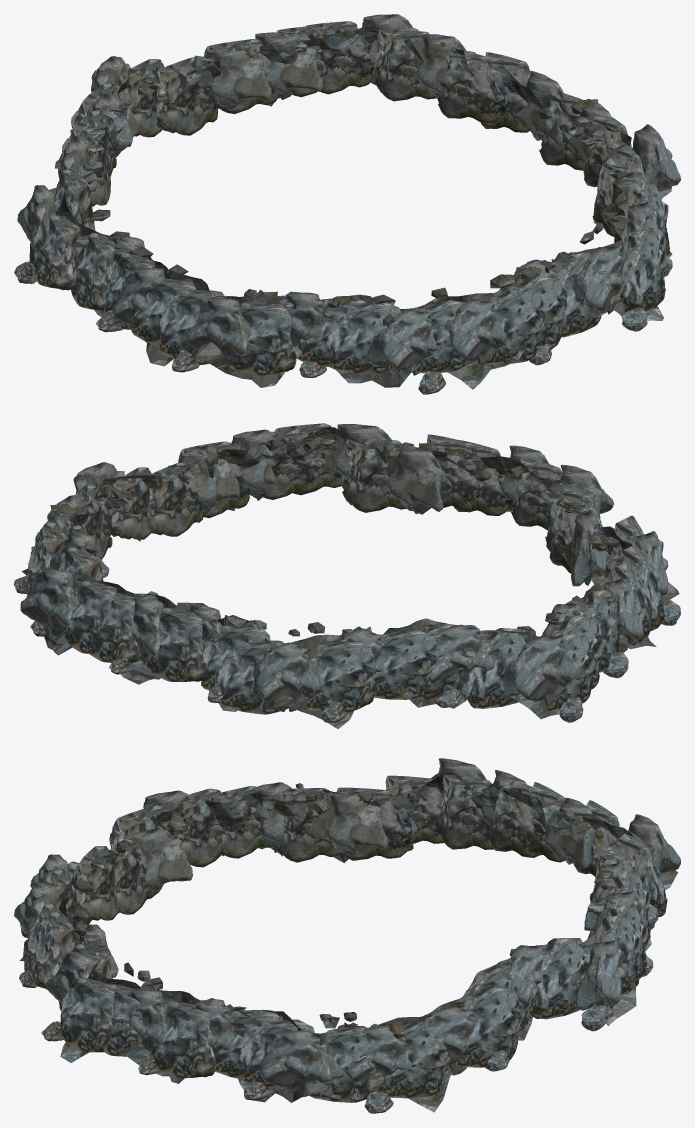
Rendered from ValoriaScannedCliffV2.glb.
3 renders of one model, top to bottom at view 1: azimuth 30°, elevation 25°; view 2: azimuth 150°, elevation 25°; view 3: azimuth 270°, elevation 25°, orthographic.
Parts seen in each view (by area): view 1: Buried continuous cliff contact receiver - existing geometry, CC0 directed cliff course 05, CC0 directed cliff course 32, CC0 directed cliff course 14, CC0 directed cliff course 35, CC0 directed cliff course 39, CC0 directed cliff course 44, CC0 cluster directed cliff course 36, CC0 directed cliff course 07, CC0 cluster directed cliff course 31, CC0 cluster directed cliff course 13, CC0 cluster directed cliff course 38 (+37 smaller); view 2: Buried continuous cliff contact receiver - existing geometry, CC0 directed cliff course 17, CC0 cluster directed cliff course 23, CC0 directed cliff course 19, CC0 directed cliff course 12, CC0 cluster directed cliff course 16, CC0 cluster directed cliff course 41, CC0 directed cliff course 49, CC0 directed cliff course 42, CC0 directed cliff course 22, CC0 directed cliff course 15, CC0 cluster directed cliff course 08 (+39 smaller); view 3: Buried continuous cliff contact receiver - existing geometry, CC0 directed cliff course 47, CC0 directed cliff course 04, CC0 cluster directed cliff course 51, CC0 directed cliff course 07, CC0 cluster directed cliff course 26, CC0 directed cliff course 44, CC0 directed cliff course 02, CC0 directed cliff course 22, CC0 cluster directed cliff course 08, CC0 cluster directed cliff course 33, CC0 directed cliff course 30 (+38 smaller).
Part boxes in pixels (bbox=[...]): Buried continuous cliff contact receiver - existing geometry: bbox=[29, 26, 672, 389]; CC0 directed cliff course 05: bbox=[437, 54, 511, 122]; CC0 directed cliff course 32: bbox=[229, 302, 296, 375]; CC0 directed cliff course 14: bbox=[154, 57, 217, 135]; CC0 directed cliff course 35: bbox=[325, 301, 400, 374]; CC0 directed cliff course 39: bbox=[484, 289, 545, 364]; CC0 directed cliff course 44: bbox=[619, 229, 666, 312]; CC0 cluster directed cliff course 36: bbox=[367, 309, 439, 375]; CC0 directed cliff course 07: bbox=[374, 29, 437, 101]; CC0 cluster directed cliff course 31: bbox=[185, 297, 260, 366]; CC0 cluster directed cliff course 13: bbox=[205, 47, 271, 109]; CC0 cluster directed cliff course 38: bbox=[445, 299, 506, 364]; Buried continuous cliff contact receiver - existing geometry: bbox=[22, 427, 679, 729]; CC0 directed cliff course 17: bbox=[306, 641, 375, 712]; CC0 cluster directed cliff course 23: bbox=[503, 635, 576, 705]; CC0 directed cliff course 19: bbox=[374, 629, 437, 699]; CC0 directed cliff course 12: bbox=[143, 607, 206, 681]; CC0 cluster directed cliff course 16: bbox=[253, 642, 320, 711]; CC0 cluster directed cliff course 41: bbox=[386, 443, 451, 514]; CC0 directed cliff course 49: bbox=[149, 463, 203, 536]; CC0 directed cliff course 42: bbox=[341, 439, 406, 512]; CC0 directed cliff course 22: bbox=[465, 628, 525, 708]; CC0 directed cliff course 15: bbox=[216, 640, 288, 714]; CC0 cluster directed cliff course 08: bbox=[20, 568, 75, 637]; Buried continuous cliff contact receiver - existing geometry: bbox=[19, 772, 677, 1112]; CC0 directed cliff course 47: bbox=[152, 1001, 216, 1078]; CC0 directed cliff course 04: bbox=[454, 986, 521, 1067]; CC0 cluster directed cliff course 51: bbox=[259, 1030, 344, 1097]; CC0 directed cliff course 07: bbox=[529, 938, 588, 1019]; CC0 cluster directed cliff course 26: bbox=[305, 791, 387, 855]; CC0 directed cliff course 44: bbox=[59, 977, 114, 1052]; CC0 directed cliff course 02: bbox=[379, 1020, 449, 1098]; CC0 directed cliff course 22: bbox=[438, 774, 494, 849]; CC0 cluster directed cliff course 08: bbox=[575, 940, 626, 1010]; CC0 cluster directed cliff course 33: bbox=[124, 828, 192, 897]; CC0 directed cliff course 30: bbox=[176, 788, 222, 867].
Bounding box in the file's own units: 91.15 × 17.49 × 89.31.
2 materials, 2 textured.
